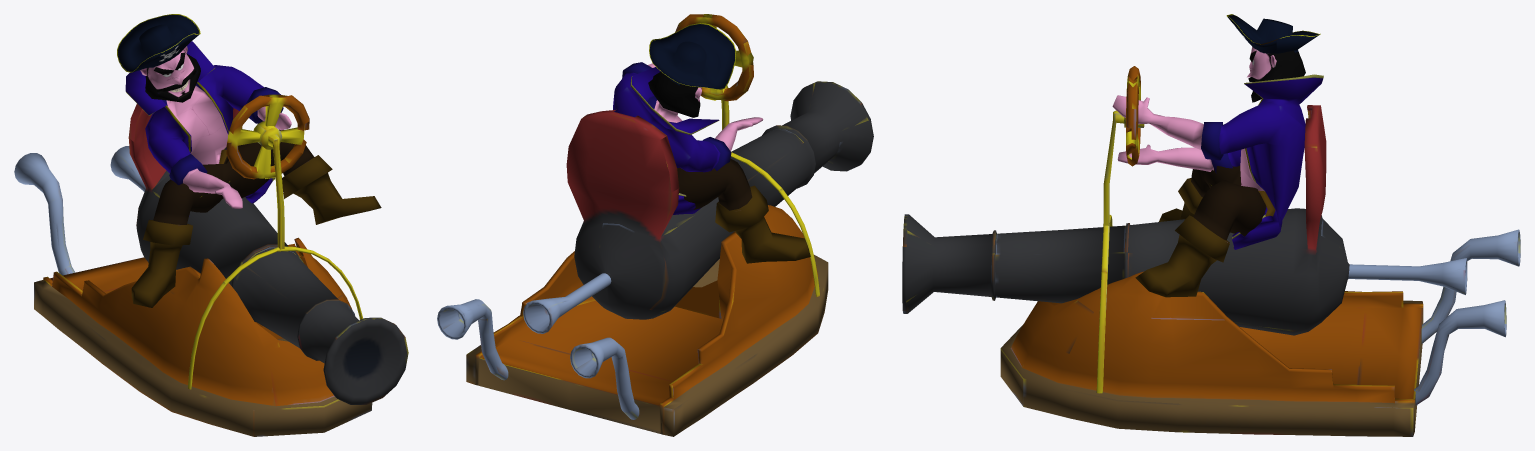
The model's file is pirataGiroDer_000177.obj.
3 renders of one model, left to right at view 1: azimuth 30°, elevation 25°; view 2: azimuth 150°, elevation 25°; view 3: azimuth 270°, elevation 25°, orthographic. The views are drawn at different scales.
Visible parts, largest first — view 1: carro_pirata, Pirata_PirataH_Pirata_PirataH.001; view 2: carro_pirata, Pirata_PirataH_Pirata_PirataH.001; view 3: carro_pirata, Pirata_PirataH_Pirata_PirataH.001.
Part boxes in pixels (x1,y1,x2,y2): carro_pirata: (14,94,408,436); Pirata_PirataH_Pirata_PirataH.001: (117,14,381,307); carro_pirata: (437,14,873,436); Pirata_PirataH_Pirata_PirataH.001: (613,23,810,263); carro_pirata: (902,66,1520,436); Pirata_PirataH_Pirata_PirataH.001: (1112,14,1323,297).
Bounding box in the file's own units: 5.65 × 7.42 × 12.1.
Materials: 2 (2 with a texture image).
